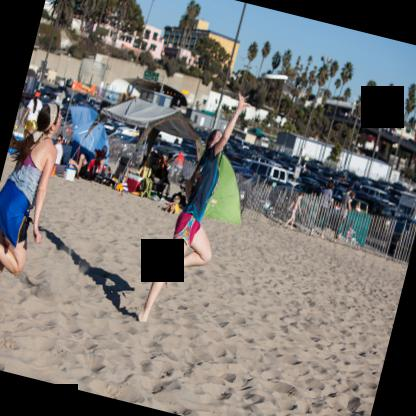backpack: (139, 176, 152, 198)
